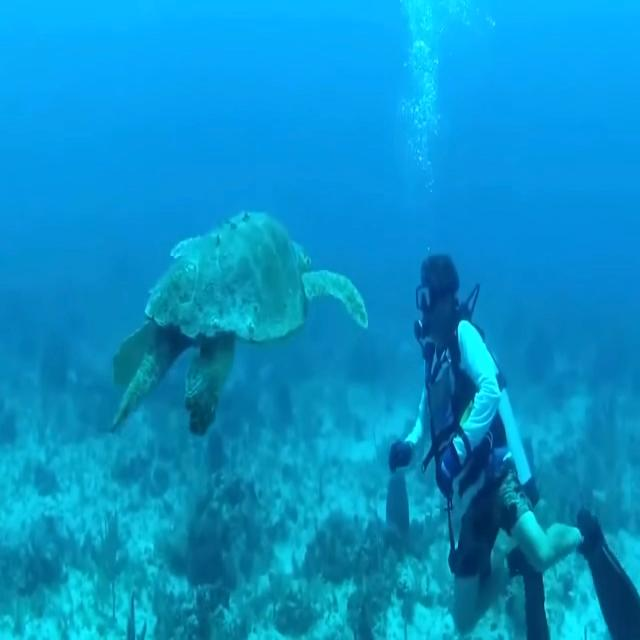Sea turtle: (113, 207, 370, 429)
